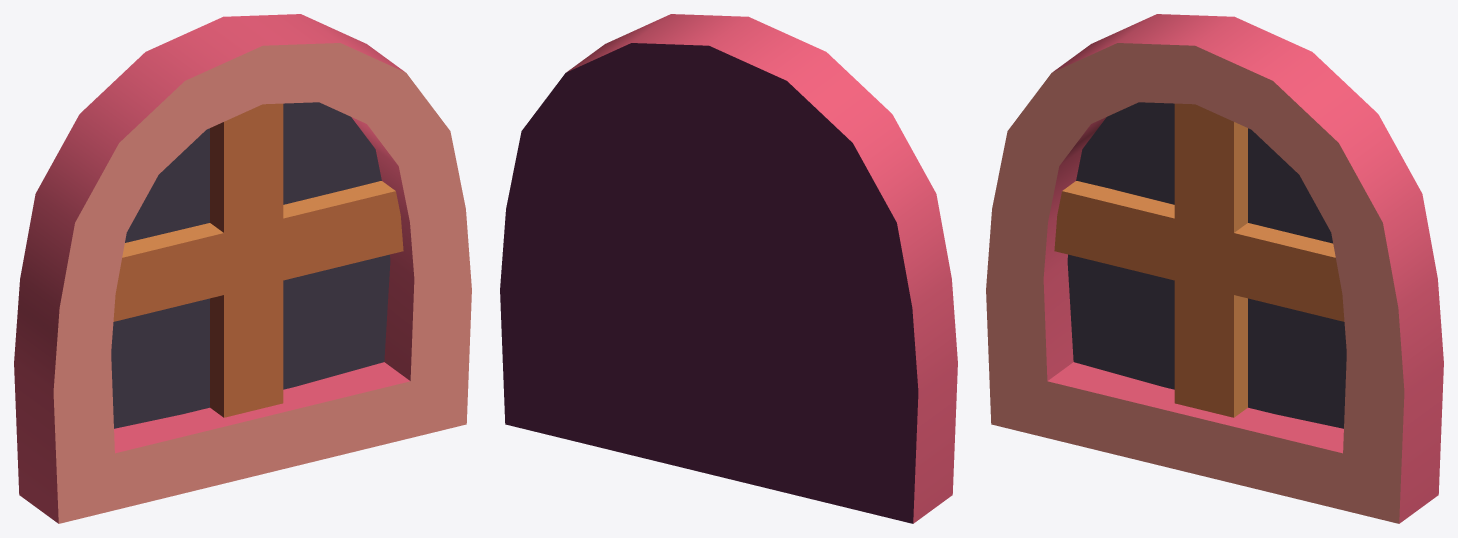
File: SmallWindow01_Pink_Wood.glb
The picture shows the model from 3 angles, left to right: view 1: azimuth 30°, elevation 25°; view 2: azimuth 150°, elevation 25°; view 3: azimuth 330°, elevation 25°; orthographic projection.
Parts seen in each view (by area): view 1: SmallWindow01_Pink_Wood; view 2: SmallWindow01_Pink_Wood; view 3: SmallWindow01_Pink_Wood.
Part boxes in pixels (bbox=[...]): SmallWindow01_Pink_Wood: bbox=[14, 14, 471, 523]; SmallWindow01_Pink_Wood: bbox=[500, 14, 957, 523]; SmallWindow01_Pink_Wood: bbox=[986, 14, 1443, 523].
Size of the model in its own units: 0.5801 by 0.5676 by 0.0949.
Materials: 1 (1 with a texture image).
